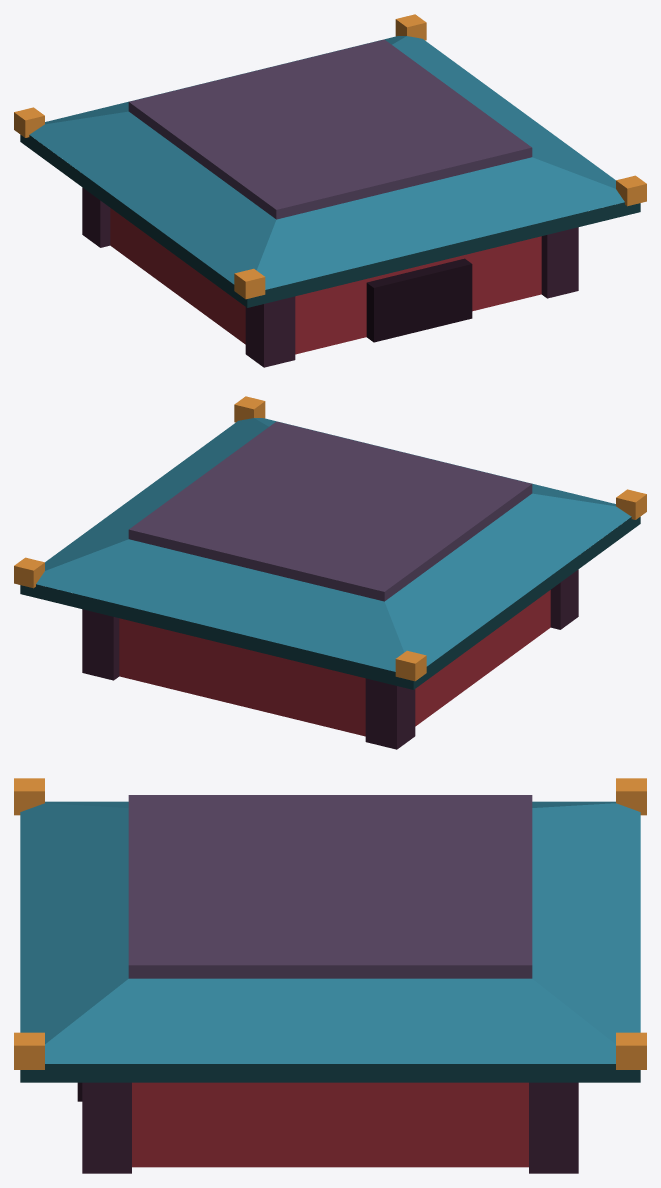
Rendered from storey.glb.
3 views of the same model, one above another, from view 1: azimuth 30°, elevation 25°; view 2: azimuth 150°, elevation 25°; view 3: azimuth 270°, elevation 25° (orthographic). The views are drawn at different scales.
Visible parts, largest first — view 1: Roof, Deck, Walls, Fascia, Door, Post0, Post1, Post3, Tip0, Tip1, Tip3, Tip2; view 2: Roof, Deck, Walls, Fascia, Post3, Post2, Post0, Tip3, Tip2, Tip0, Tip1; view 3: Roof, Deck, Walls, Fascia, Post1, Post2, Tip1, Tip2, Tip0, Tip3.
Part boxes in pixels (x1,y1,x2,y2): Roof: (29, 36, 624, 289); Deck: (128, 39, 532, 219); Walls: (110, 208, 541, 354); Fascia: (20, 135, 640, 307); Door: (366, 258, 472, 342); Post0: (245, 296, 295, 367); Post1: (541, 227, 578, 298); Post3: (82, 187, 110, 247); Tip0: (234, 268, 265, 299); Tip1: (616, 175, 646, 206); Tip3: (14, 107, 44, 137); Tip2: (395, 14, 426, 40); Roof: (36, 418, 631, 671); Deck: (128, 421, 532, 601); Walls: (119, 590, 550, 736); Fascia: (20, 517, 640, 689); Post3: (365, 678, 415, 749); Post2: (82, 609, 119, 680); Post0: (550, 569, 578, 629); Tip3: (395, 650, 426, 681); Tip2: (14, 557, 44, 588); Tip0: (616, 489, 646, 519); Tip1: (234, 396, 265, 422); Roof: (20, 801, 640, 1063); Deck: (128, 795, 532, 978); Walls: (132, 1082, 528, 1167); Fascia: (20, 1064, 640, 1082); Post1: (82, 1082, 131, 1173); Post2: (529, 1082, 578, 1173); Tip1: (14, 1032, 44, 1069); Tip2: (616, 1032, 646, 1069); Tip0: (14, 778, 44, 815); Tip3: (616, 778, 646, 815).
Size of the model in its own units: 2.04 by 0.6708 by 2.04.
